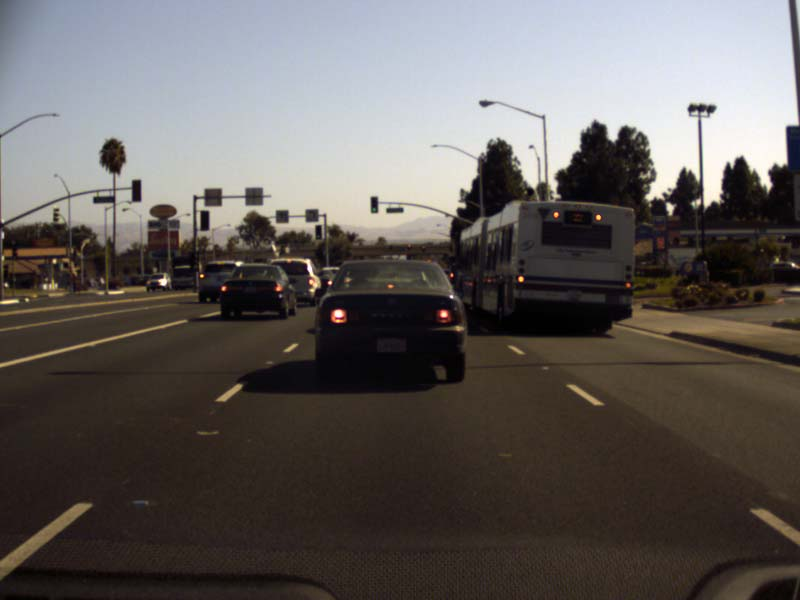Green: (370, 196, 377, 213), (315, 225, 321, 240)
